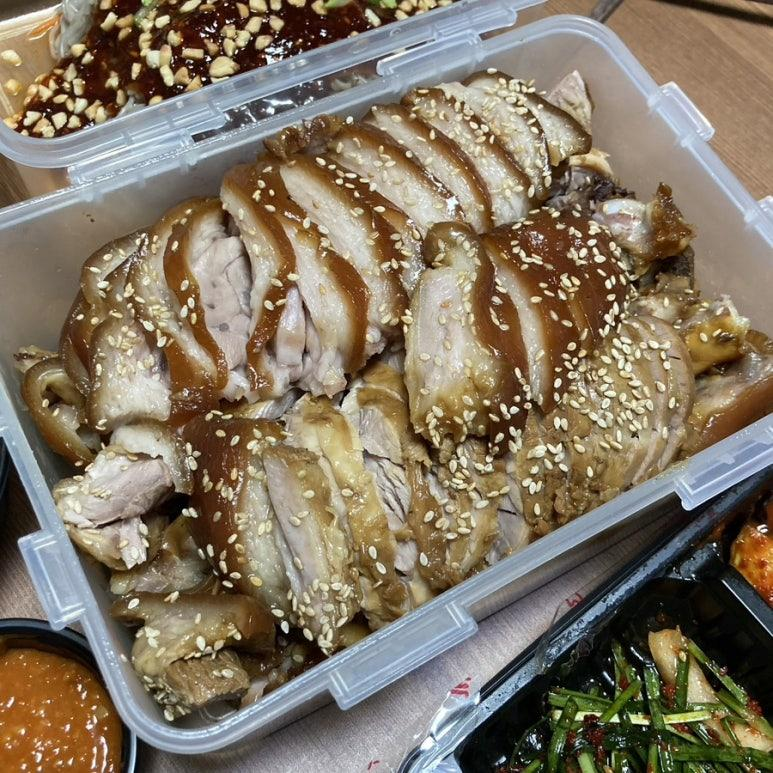Lunch Box: (0, 16, 772, 753), (398, 467, 772, 772), (0, 0, 515, 197)
cup: (0, 618, 140, 772)
